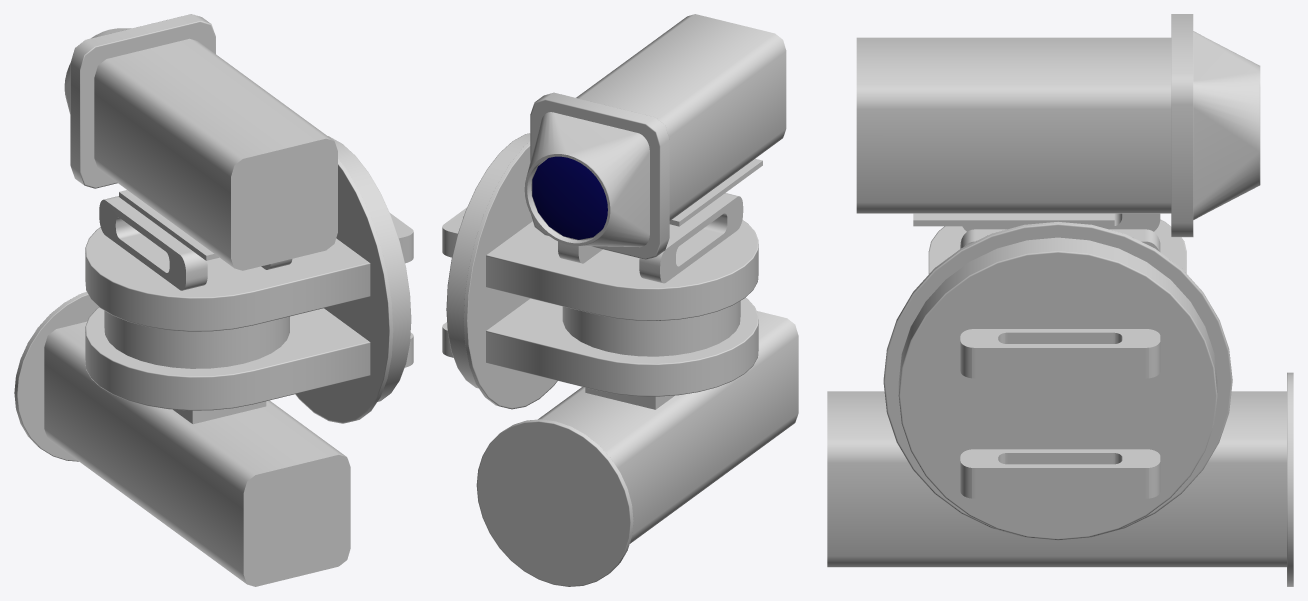
File: CIWS_Barrel_Sensor_Dst.fbx
3 views of the same model, side by side, from view 1: azimuth 30°, elevation 25°; view 2: azimuth 150°, elevation 25°; view 3: azimuth 270°, elevation 25° (orthographic). The views are drawn at different scales.
Visible parts, largest first — view 1: CIWS_Barrel_Sensor_LOD0; view 2: CIWS_Barrel_Sensor_LOD0; view 3: CIWS_Barrel_Sensor_LOD0.
Part boxes in pixels (left/top/right/bottom): CIWS_Barrel_Sensor_LOD0: left=14, top=14, right=413, bottom=586; CIWS_Barrel_Sensor_LOD0: left=442, top=14, right=798, bottom=586; CIWS_Barrel_Sensor_LOD0: left=827, top=14, right=1293, bottom=586.
Size of what is drawn, in the model's own units: 45.73 by 73.23 by 58.02.
